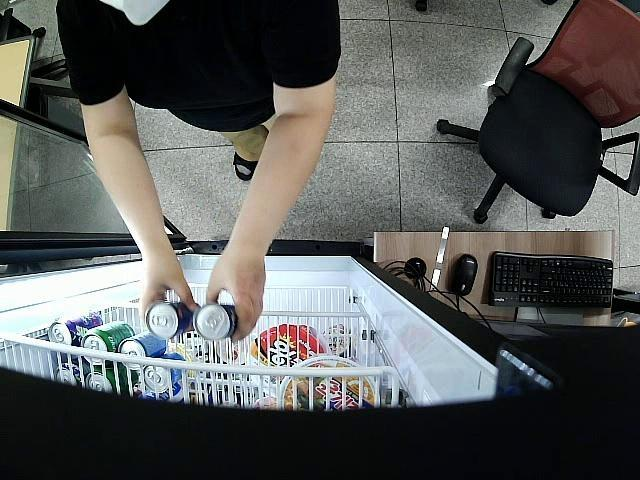16_hot6: (147, 300, 200, 335), (193, 301, 240, 340)
